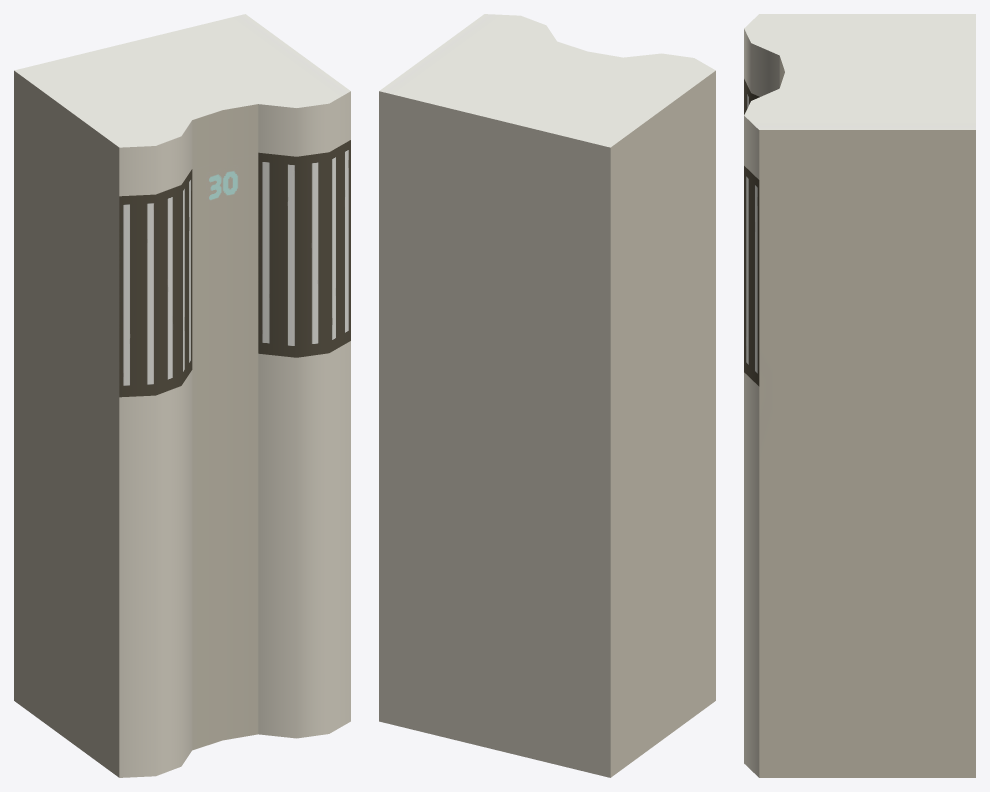
Rendered from Store_Aircon_01.FBX.
The picture shows the model from 3 angles, left to right: view 1: azimuth 30°, elevation 25°; view 2: azimuth 150°, elevation 25°; view 3: azimuth 270°, elevation 25°; orthographic projection. The views are drawn at different scales.
Parts seen in each view (by area): view 1: Plane034; view 2: Plane034; view 3: Plane034.
Part boxes in pixels (x1,y1,x2,y2): Plane034: (14, 14, 350, 777); Plane034: (379, 14, 715, 777); Plane034: (744, 14, 975, 777).
Size of the model in its own units: 22.45 by 58.42 by 18.95.
